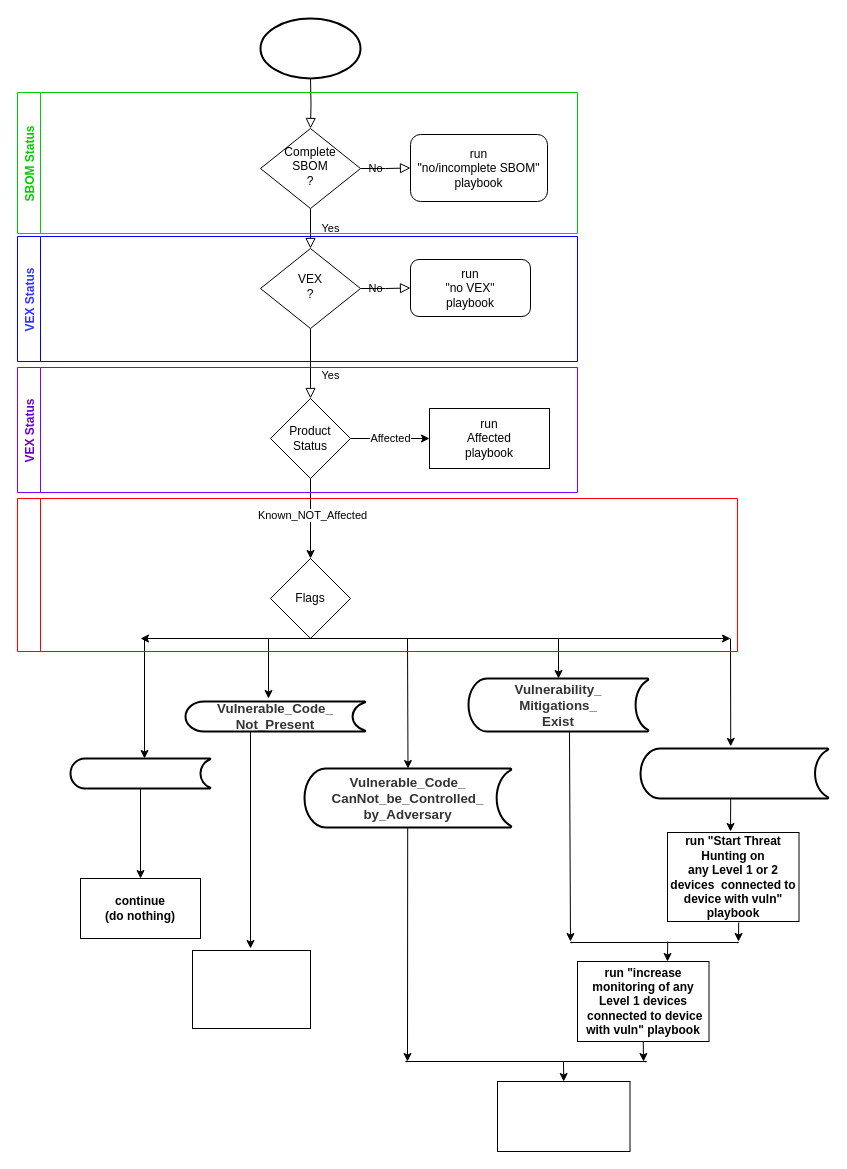
Some shapes in this 847 by 1169 pixel diagram are drawn without their labels. The shapes that lost their labels are listed below. From the top down, each one's centre as x and y in pixels, then its label:
point 310,48: III D 03 Playbook
point 377,575: Not_Affected_Flags
point 140,773: Component_ Not_Present
point 734,773: Vulnerable_Code_ not_in_ execute_path
point 251,989: run "validate using 3rd party scanner" playbook
point 563,1116: run "increase monitoring of any devices with the vuln" playbook
